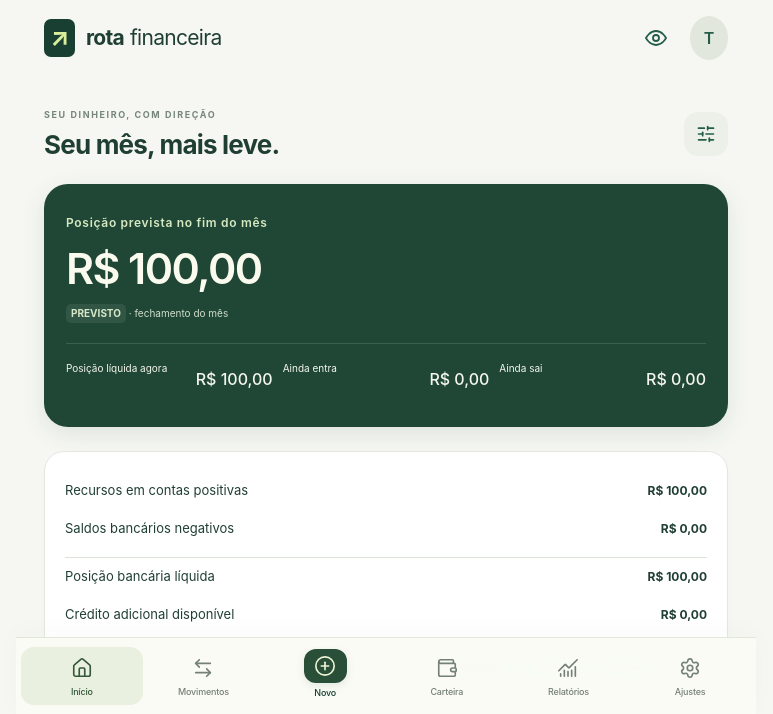
it: fluxos reais da interface com Supabase isolado de teste › arquiva conta sem excluir seus dados
This screenshot has width=773, height=714.
Expected: the text "Posição líquida agora" is shown, [66, 362, 167, 374]
Click the button "Ajustes".
click(690, 676)  # box [629, 646, 751, 705]
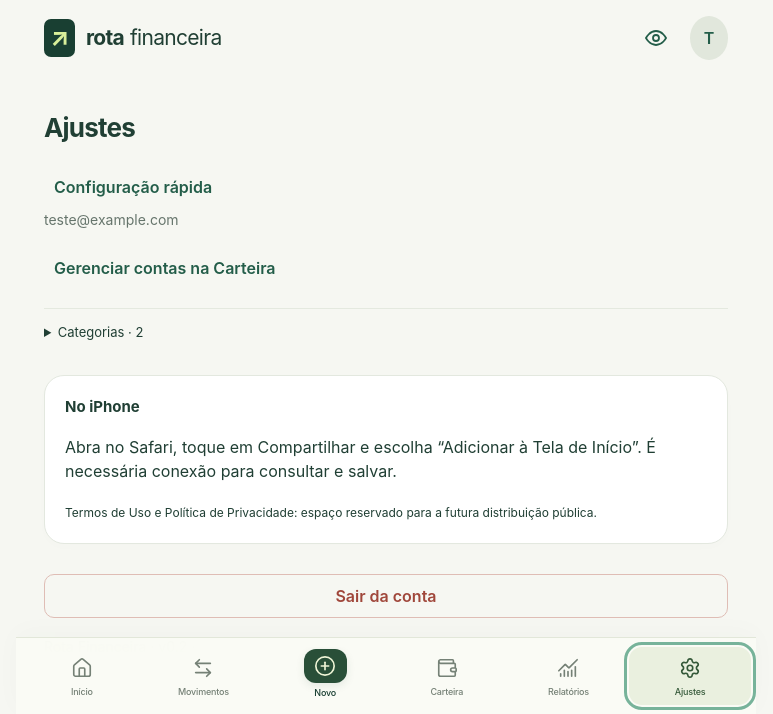
Click the button "Gerenciar contas na Carteira".
click(165, 268)  # box [44, 246, 286, 290]
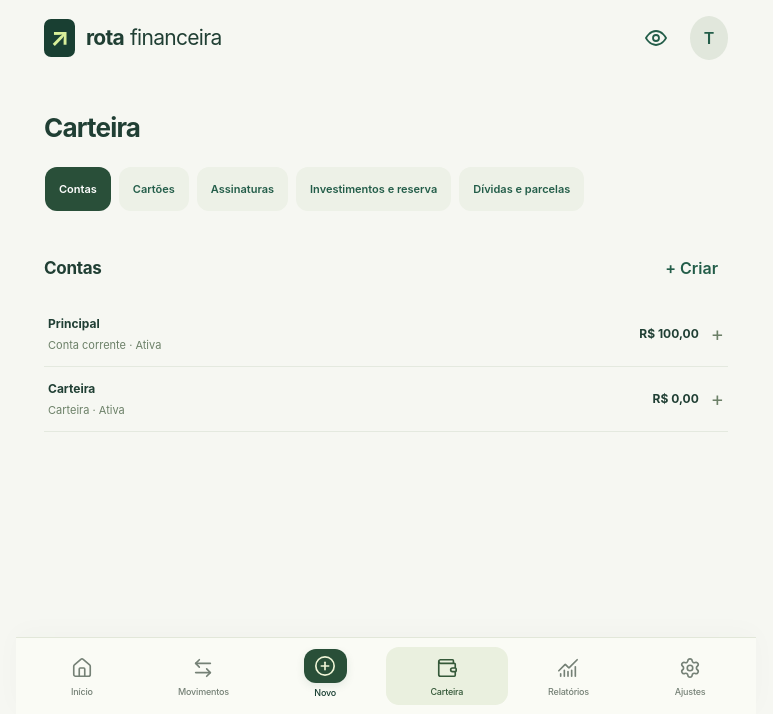
Click the text "Principal".
click(74, 323)  # box [48, 316, 100, 331]
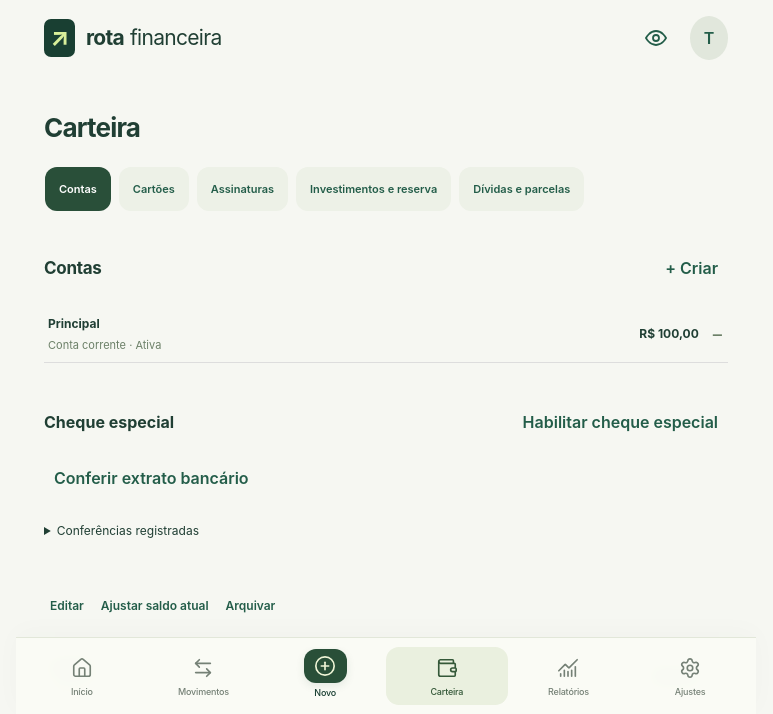
Click the button "Arquivar".
click(250, 606)  # box [220, 584, 281, 628]
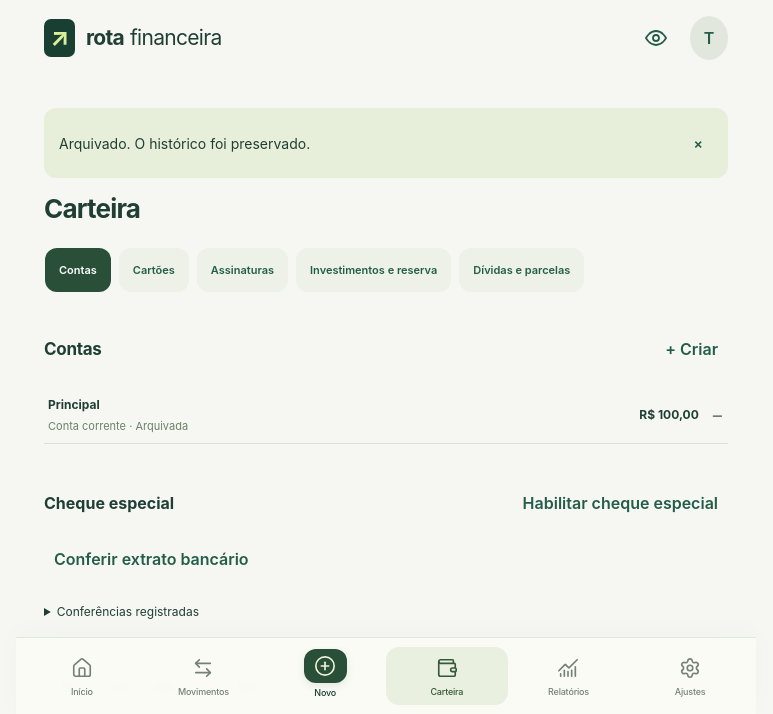
Result: the text "Arquivado. O histórico foi preservado. ×" is shown at [44, 108, 728, 178]
